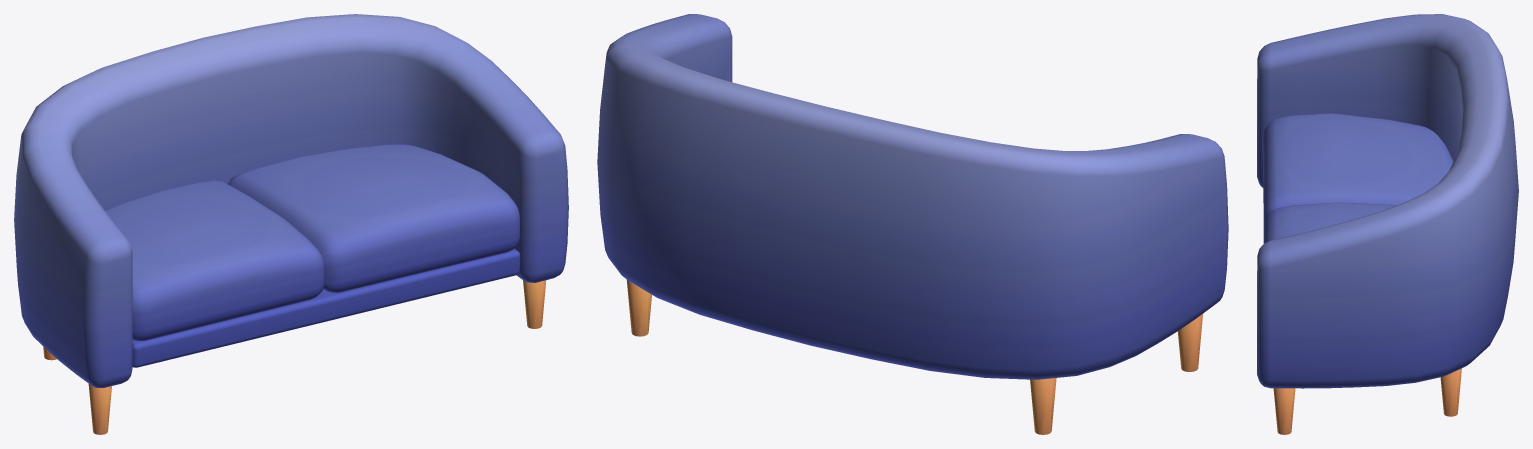
The model's file is Couch_10.glb.
3 renders of one model, left to right at view 1: azimuth 30°, elevation 25°; view 2: azimuth 150°, elevation 25°; view 3: azimuth 270°, elevation 25°, orthographic. The views are drawn at different scales.
Parts seen in each view (by area): view 1: Couch_10; view 2: Couch_10; view 3: Couch_10.
Boxes of the visible parts, box(x1,y1,x2,y2) form: Couch_10: box(14, 14, 568, 434); Couch_10: box(597, 14, 1228, 434); Couch_10: box(1257, 14, 1518, 434).
Size of the model in its own units: 1.57 by 0.8014 by 0.7832.
1 material, 1 textured.
